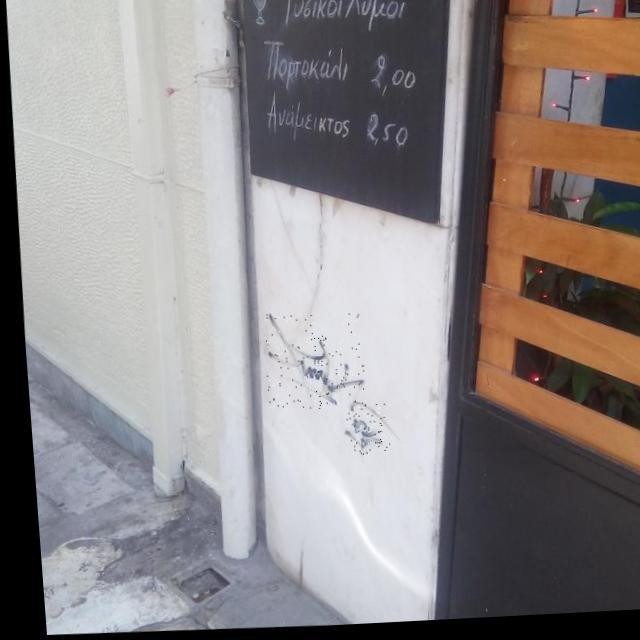-: (256, 313, 361, 416), (338, 404, 384, 459)
